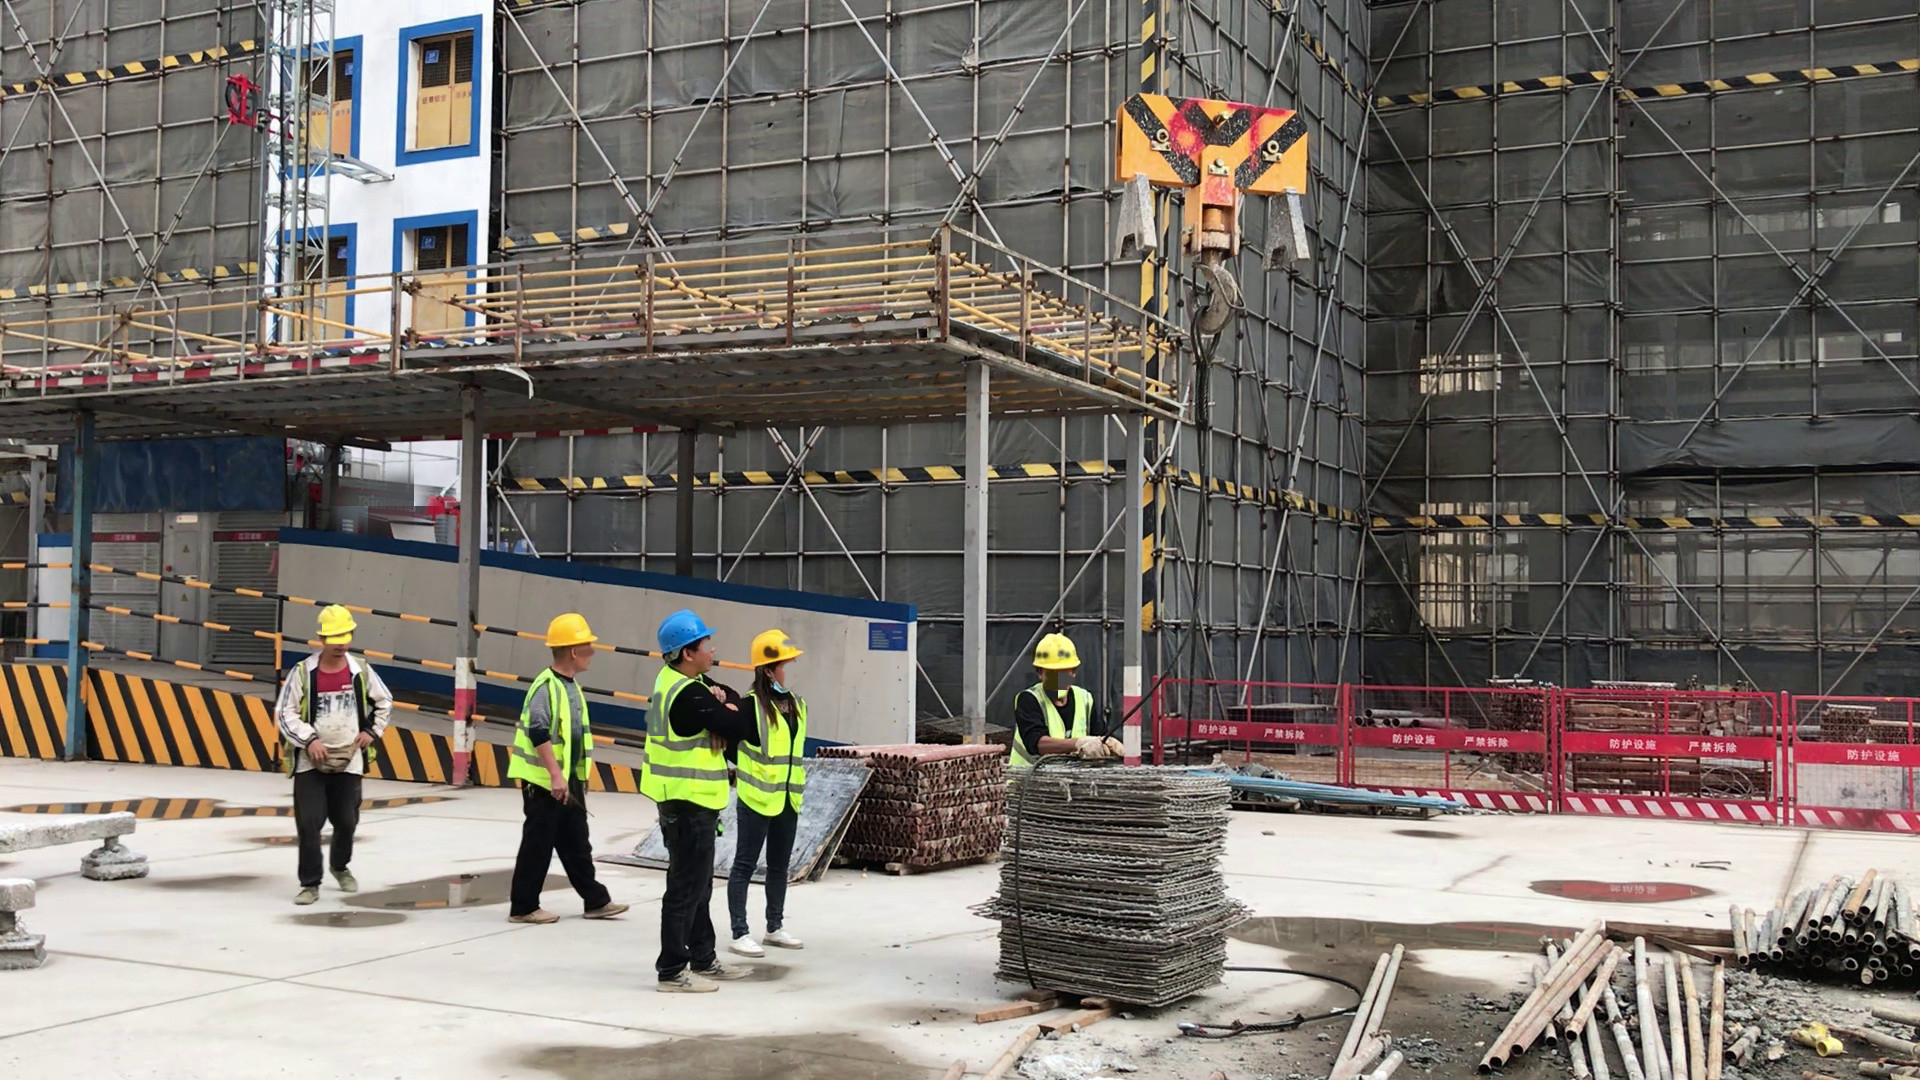fence: (23, 543, 739, 772), (1154, 666, 1920, 834)
helmet: (651, 605, 719, 656), (543, 614, 602, 658), (750, 631, 813, 669), (314, 601, 361, 644), (1031, 629, 1084, 666)
hook: (1103, 70, 1332, 344)
person: (504, 608, 634, 947), (272, 592, 393, 923), (641, 615, 740, 1011), (741, 627, 814, 975), (1004, 633, 1115, 776)
scaffold: (1475, 924, 1731, 1080), (817, 731, 1011, 887), (1723, 878, 1916, 1008)
vest: (644, 667, 738, 813), (513, 665, 599, 798), (290, 651, 379, 776), (743, 685, 809, 820), (1007, 684, 1104, 775)
